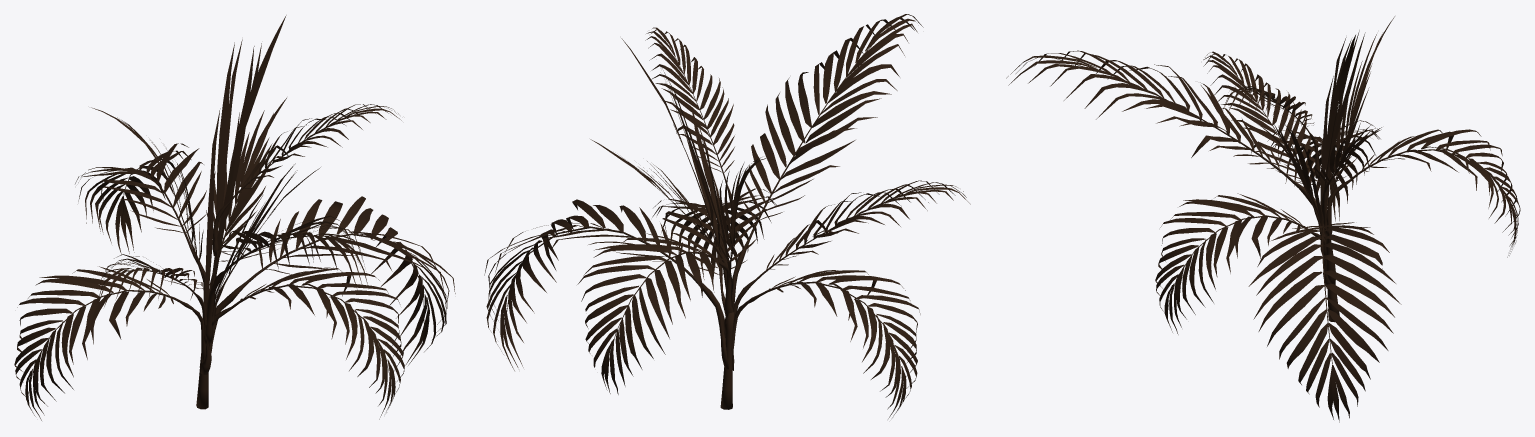
The model's file is palnt2.fbx.
The picture shows the model from 3 angles, left to right: view 1: azimuth 30°, elevation 25°; view 2: azimuth 150°, elevation 25°; view 3: azimuth 270°, elevation 25°; orthographic projection. The views are drawn at different scales.
Parts seen in each view (by area): view 1: palnt2; view 2: palnt2; view 3: palnt2.
Boxes of the visible parts, left/top/right/bottom form: palnt2: left=14, top=15, right=455, bottom=420; palnt2: left=484, top=14, right=970, bottom=418; palnt2: left=1006, top=16, right=1520, bottom=422.
Size of the model in its own units: 1.18 by 1.04 by 1.42.
